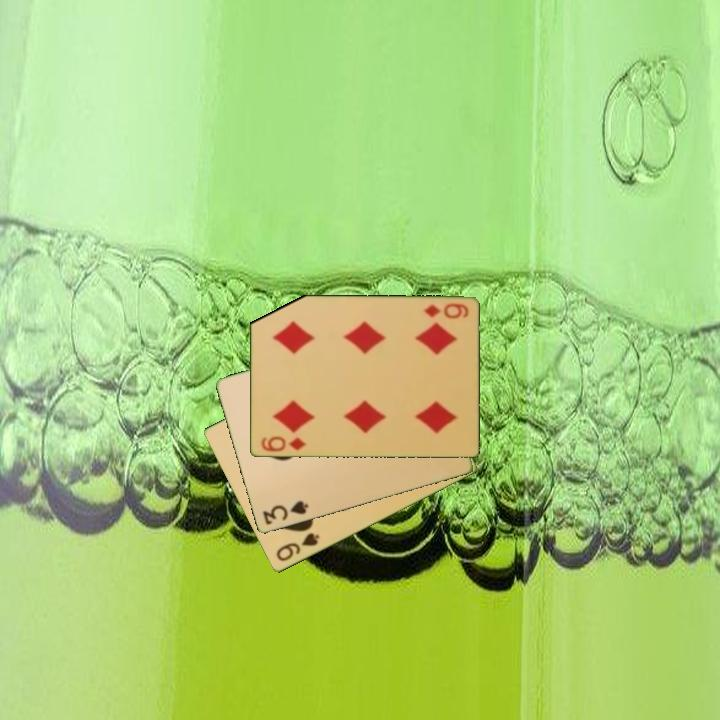3s: (259, 497, 311, 528)
6d: (257, 433, 309, 455), (420, 300, 471, 321)
9s: (273, 529, 322, 565)
